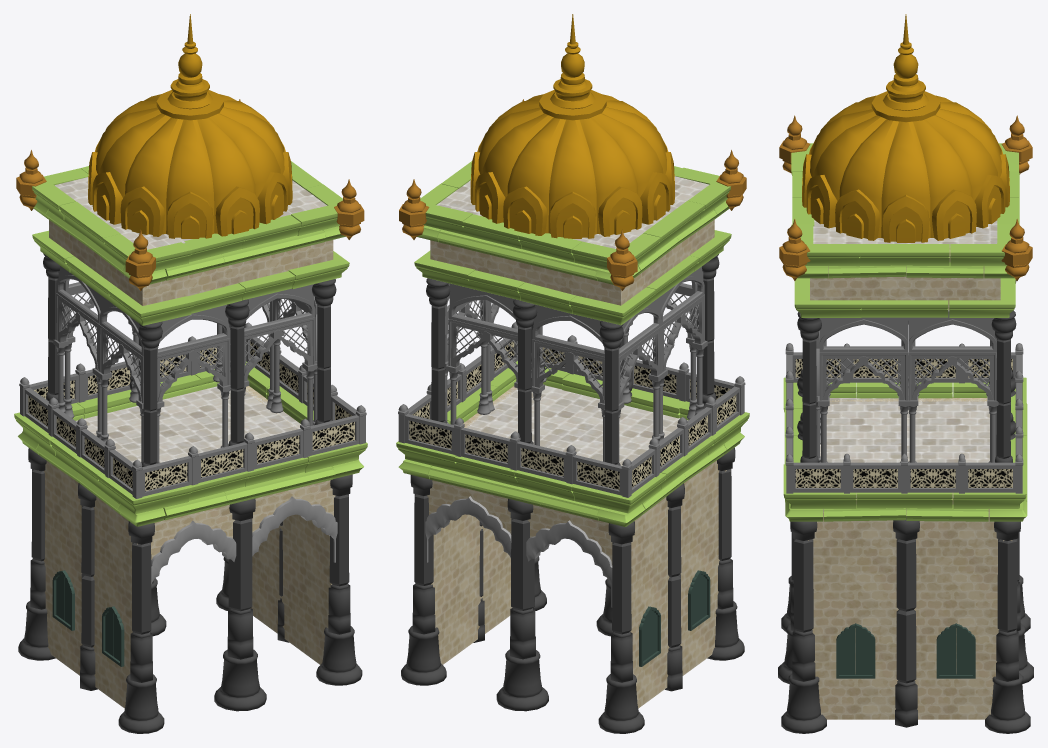
Rendered from SM_altar_02.fbx.
3 views of the same model, side by side, from view 1: azimuth 30°, elevation 25°; view 2: azimuth 150°, elevation 25°; view 3: azimuth 270°, elevation 25° (orthographic).
Visible parts, largest first — view 1: Cylinder424453; view 2: Cylinder424453; view 3: Cylinder424453.
Boxes of the visible parts, <box> form: Cylinder424453: <box>14,14,367,733</box>; Cylinder424453: <box>396,14,749,733</box>; Cylinder424453: <box>778,14,1033,733</box>.
Size of the model in its own units: 258 by 673 by 236.
